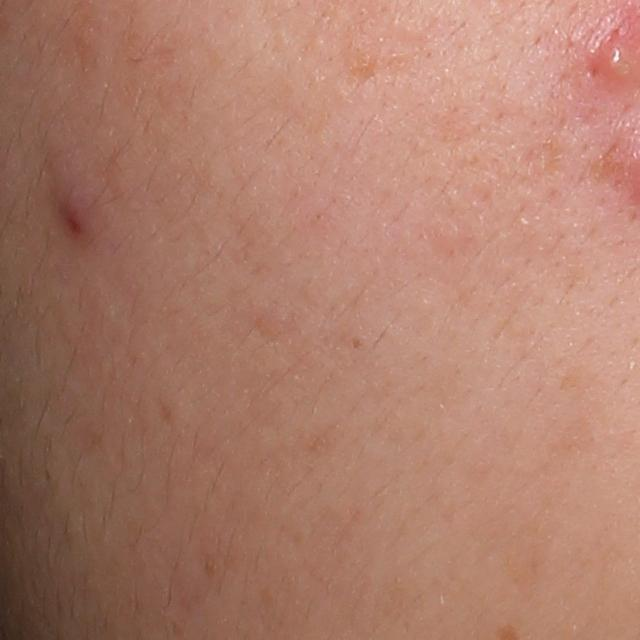papule: (56, 190, 95, 242)
